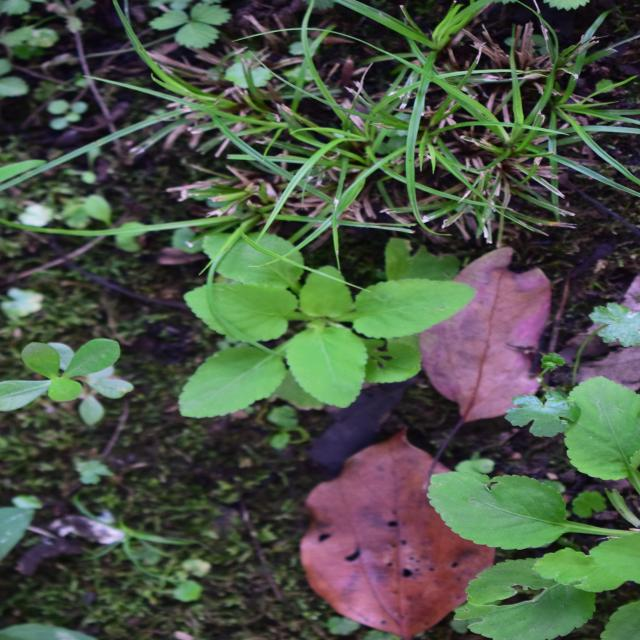Viola: (235, 168, 417, 466)
